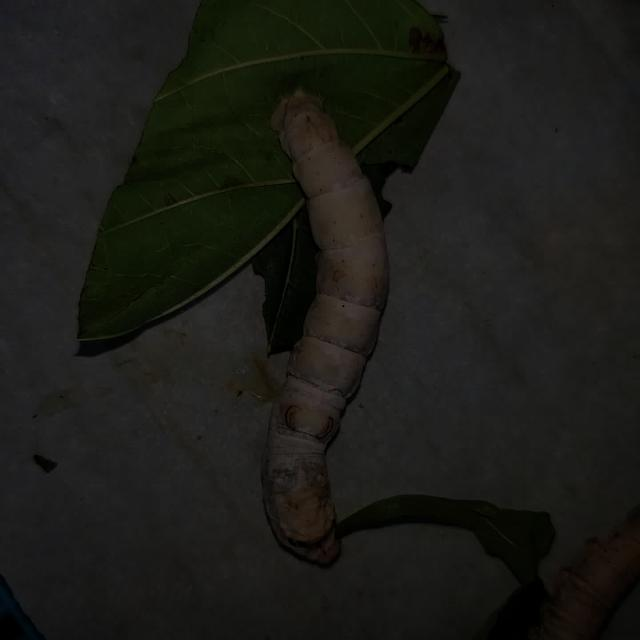Grasserie: (243, 34, 431, 590)
